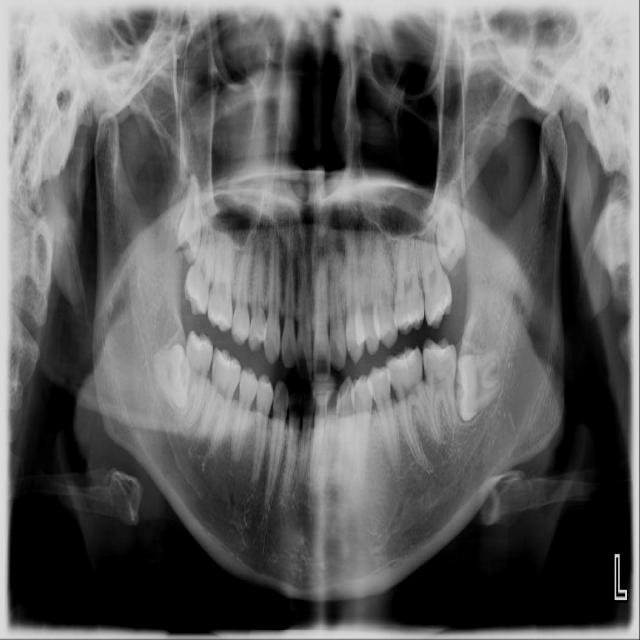impacted tooth: (456, 338, 505, 421), (433, 176, 466, 271), (149, 343, 187, 410), (178, 176, 200, 262)
